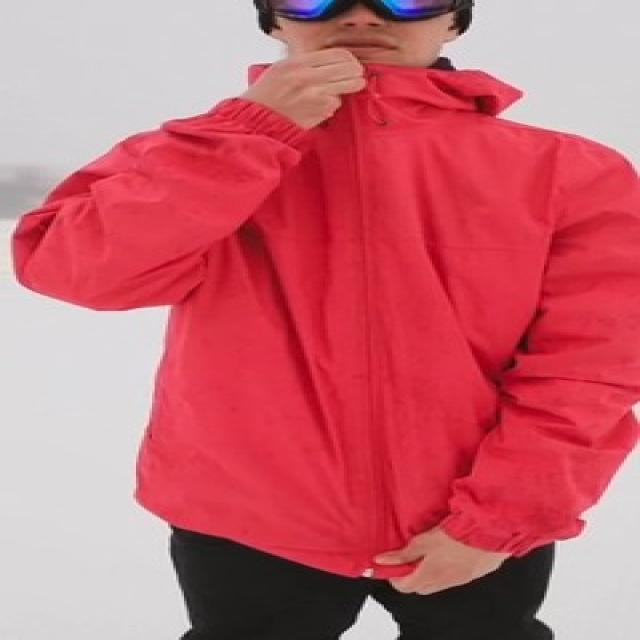Jacket_Wearer: (8, 63, 640, 585)
Person: (5, 4, 640, 640)
